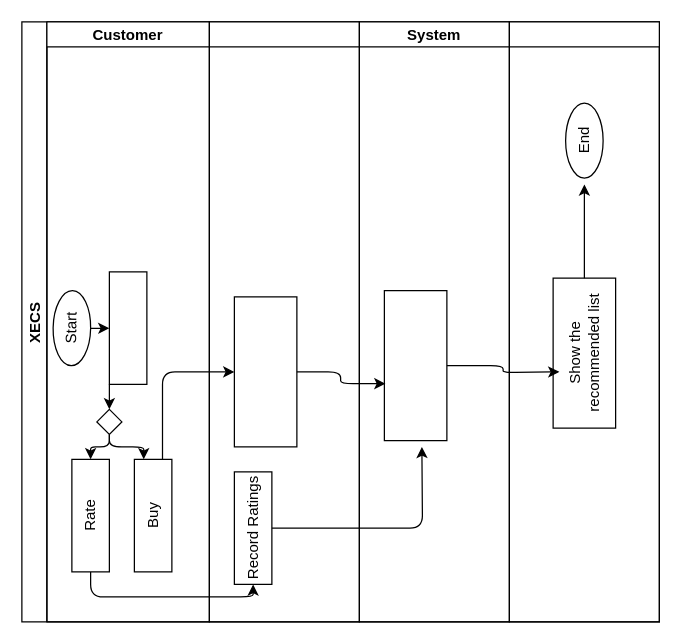
The diagram is 681 pixels wide and 644 high, and some of its shapes have lost their labels. The box of each missing label's shape, as (x1, y1, x2, y2) in pixels:
Customer Feedback: (108, 271, 147, 384)
Database: (208, 21, 359, 622)
Process new Information to upgrate Preferances list: (383, 289, 447, 441)
Record Items That user shown Interest in: (233, 296, 297, 447)
UI: (508, 21, 659, 622)
